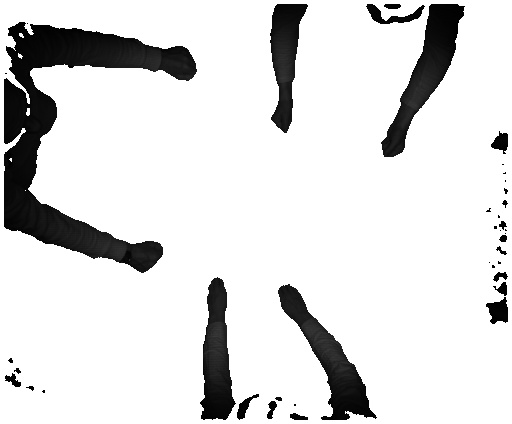fist: (166, 40, 199, 87), (128, 240, 167, 279), (376, 127, 411, 159), (264, 103, 295, 135)
hand: (272, 280, 309, 321), (206, 272, 231, 318)
